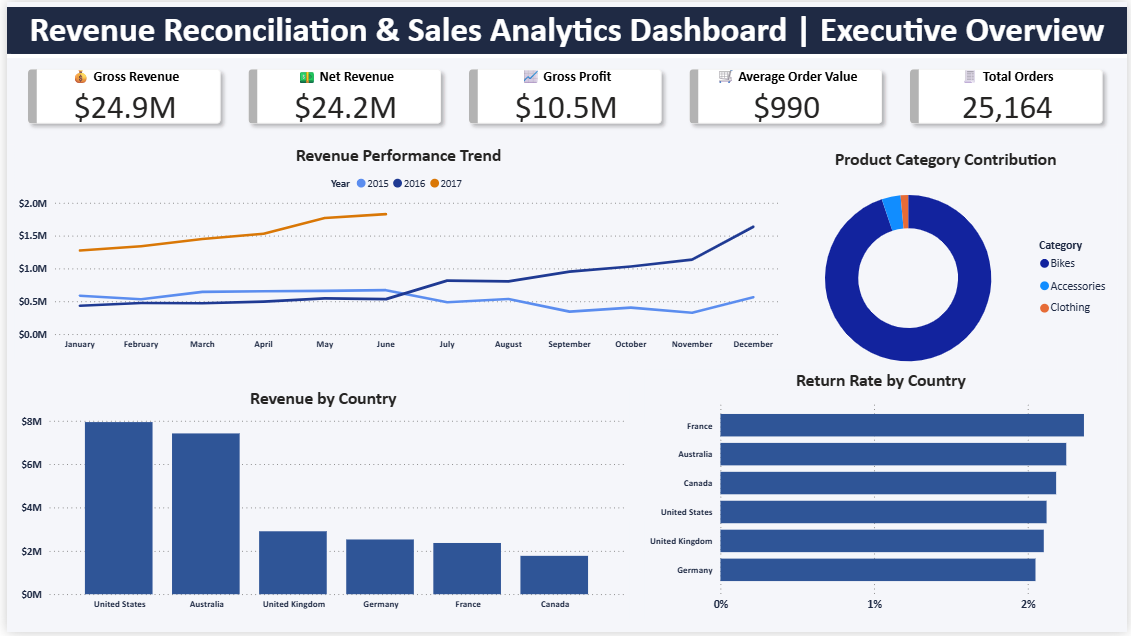

The dashboard page shown, as its layout file describes it:
{"tool":"powerbi","page":{"name":"Executive Revenue Overview","canvas":[1280,720],"ordinal":0},"visuals":[{"type":"cardVisual","fields":{"Data":["Sales.Gross Revenue","Sales.Net Revenue","Sales.Gross Profit","Sales.AOV","Sales.Total Orders"]},"box":[0,52.5,1280,110],"z":0},{"type":"textbox","title":"Revenue Reconciliation & Sales Analytics Dashboard | Executive Overview","box":[0,5.7,1280,58.6],"z":1000},{"type":"donutChart","title":"Product Category Contribution","fields":{"Category":["Product_Categories.CategoryName"],"Y":["Sales.Gross Revenue"]},"box":[875,167.5,393.8,272.5],"z":2000},{"type":"lineChart","title":"Revenue Performance Trend","fields":{"Category":["Calendar.Date.Variation.Date Hierarchy.Month"],"Series":["Calendar.Date.Variation.Date Hierarchy.Year"],"Y":["Sales.Gross Revenue"]},"box":[8.8,162.5,877.5,245],"z":3000},{"type":"clusteredColumnChart","title":"Revenue by Country","fields":{"Category":["Territories.Country"],"Y":["Sales.Gross Revenue"]},"box":[11.7,440,700,265],"z":4000},{"type":"clusteredBarChart","title":"Return Rate by Country","fields":{"Category":["Territories.Country"],"Y":["Sales.Territory Return Rate %"]},"box":[728.3,420,540,285],"z":5000}]}

Visuals, with their boxes in screenshot pixels (x1, y1, x2, y2), scaled from the page's 1280x720 canvas onto the 1131x636 screenshot:
cardVisual - Sales.Gross Revenue x Sales.Net Revenue: region(0, 46, 1130, 144)
"Revenue Reconciliation & Sales Analytics Dashboard | Executive Overview" textbox: region(0, 5, 1130, 57)
"Product Category Contribution" donutChart: region(773, 148, 1121, 389)
"Revenue Performance Trend" lineChart: region(8, 144, 783, 360)
"Revenue by Country" clusteredColumnChart: region(10, 389, 629, 623)
"Return Rate by Country" clusteredBarChart: region(644, 371, 1121, 623)
